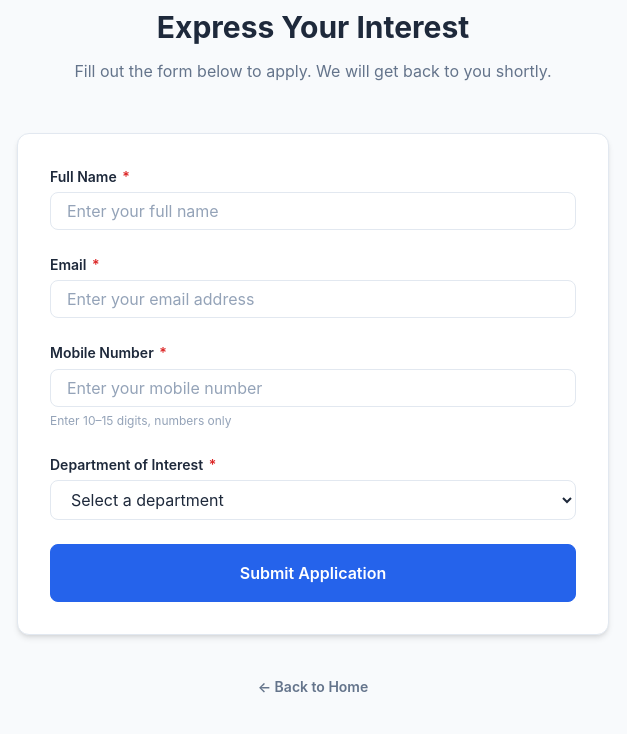
Test: InterestForm › validation errors › shows validation error for name with special characters
Step 1. Type "Jane123" into the field labelled "Full Name *" → (313, 211), box top-left (50, 192), bottom-right (576, 230)
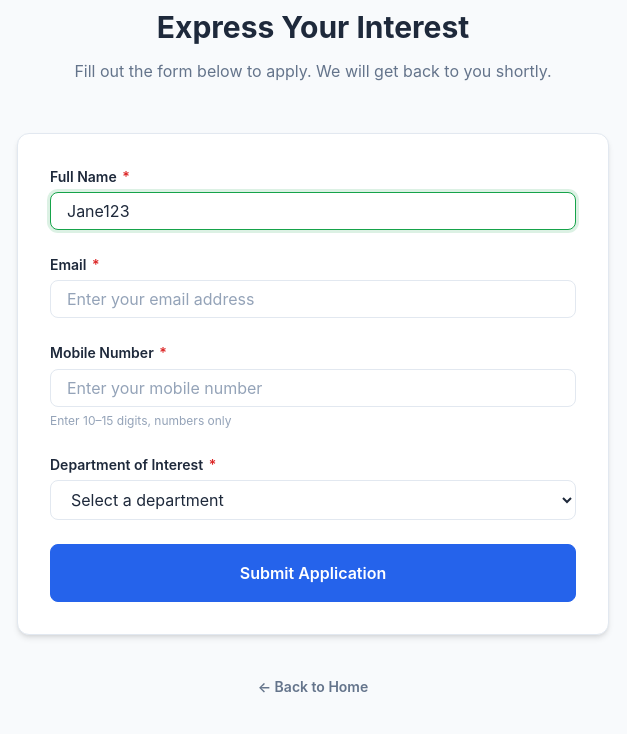
Step 2. Type "jane@example.com" into the field labelled "Email *" → (313, 299), box top-left (50, 280), bottom-right (576, 318)
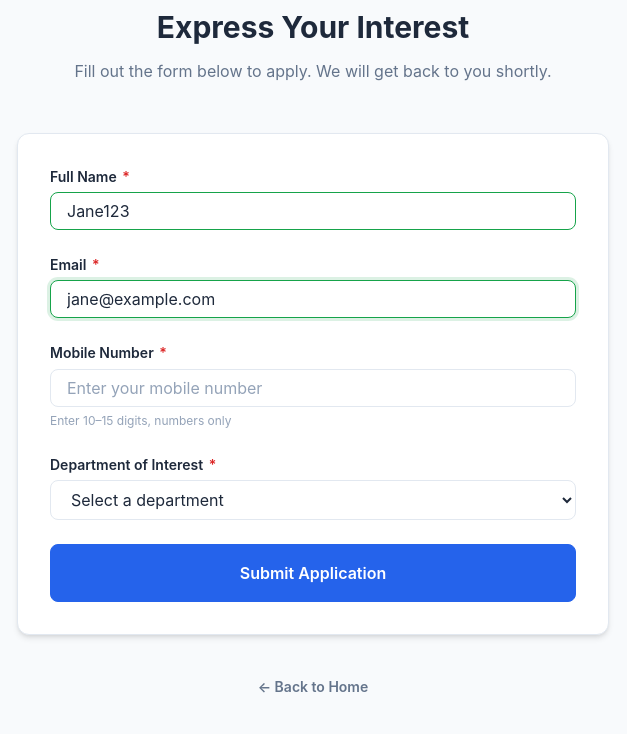
Step 3. Type "1234567890" into the field labelled "Mobile Number *" → (313, 388), box top-left (50, 369), bottom-right (576, 407)
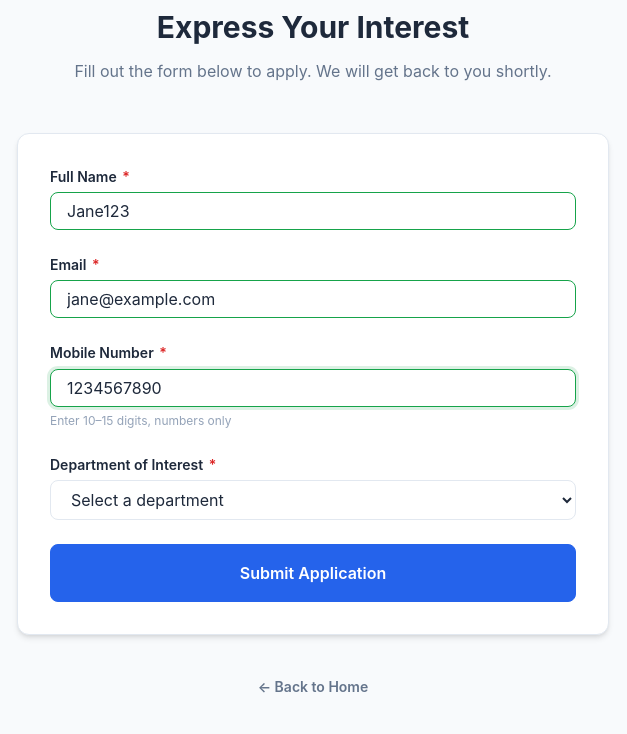
Step 4. Select "Engineering" in the dropdown labelled "Department of Interest *" → (313, 500), box top-left (50, 480), bottom-right (576, 520)
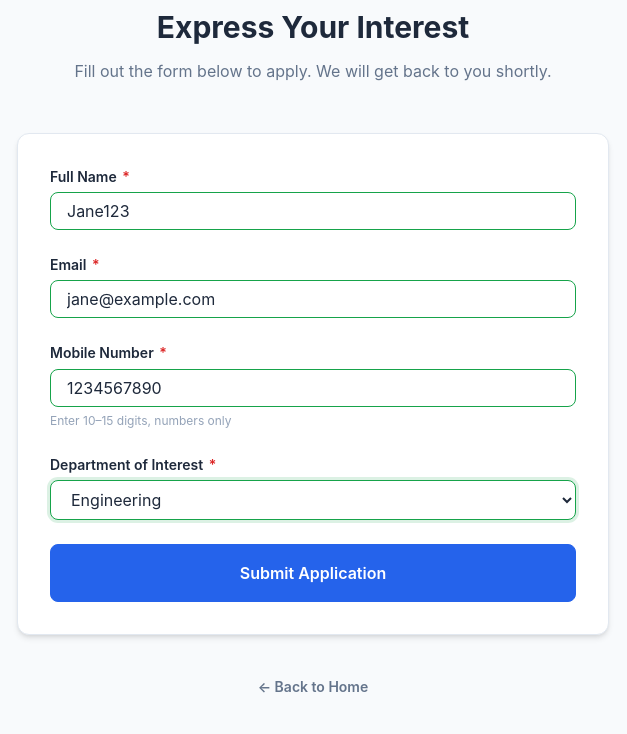
Step 5. Click the button "Submit Application" → (313, 573), box top-left (50, 544), bottom-right (576, 602)
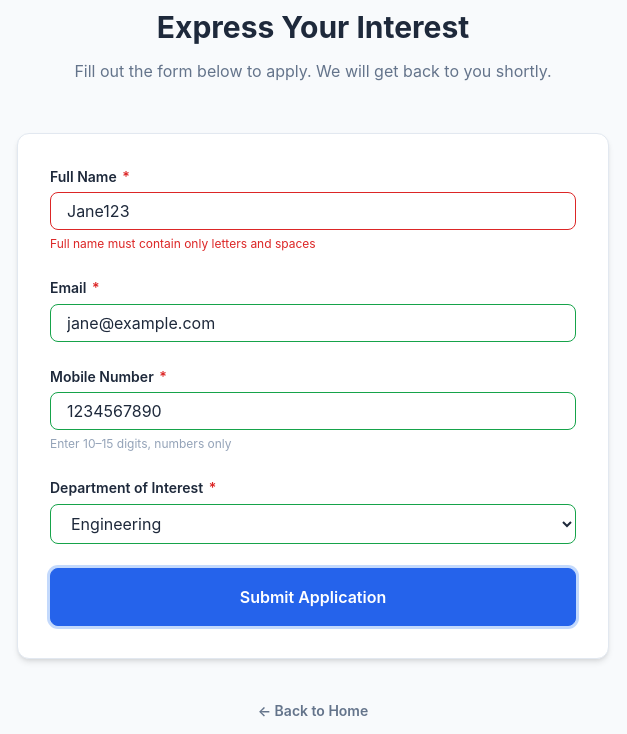
Expected: the text "Full name must contain only letters and spaces" is shown, top-left (50, 236), bottom-right (316, 251)
